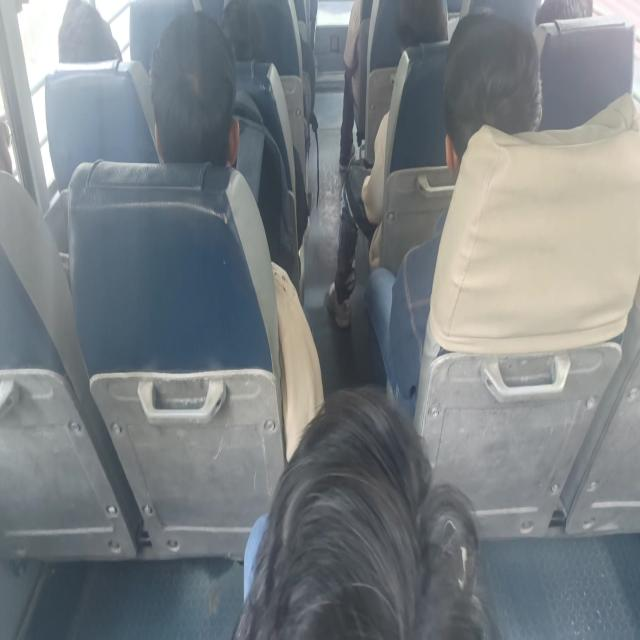person: (240, 388, 485, 640), (442, 25, 538, 184), (154, 27, 238, 166), (56, 0, 124, 64), (214, 0, 266, 71), (400, 0, 446, 62), (534, 0, 594, 30)
